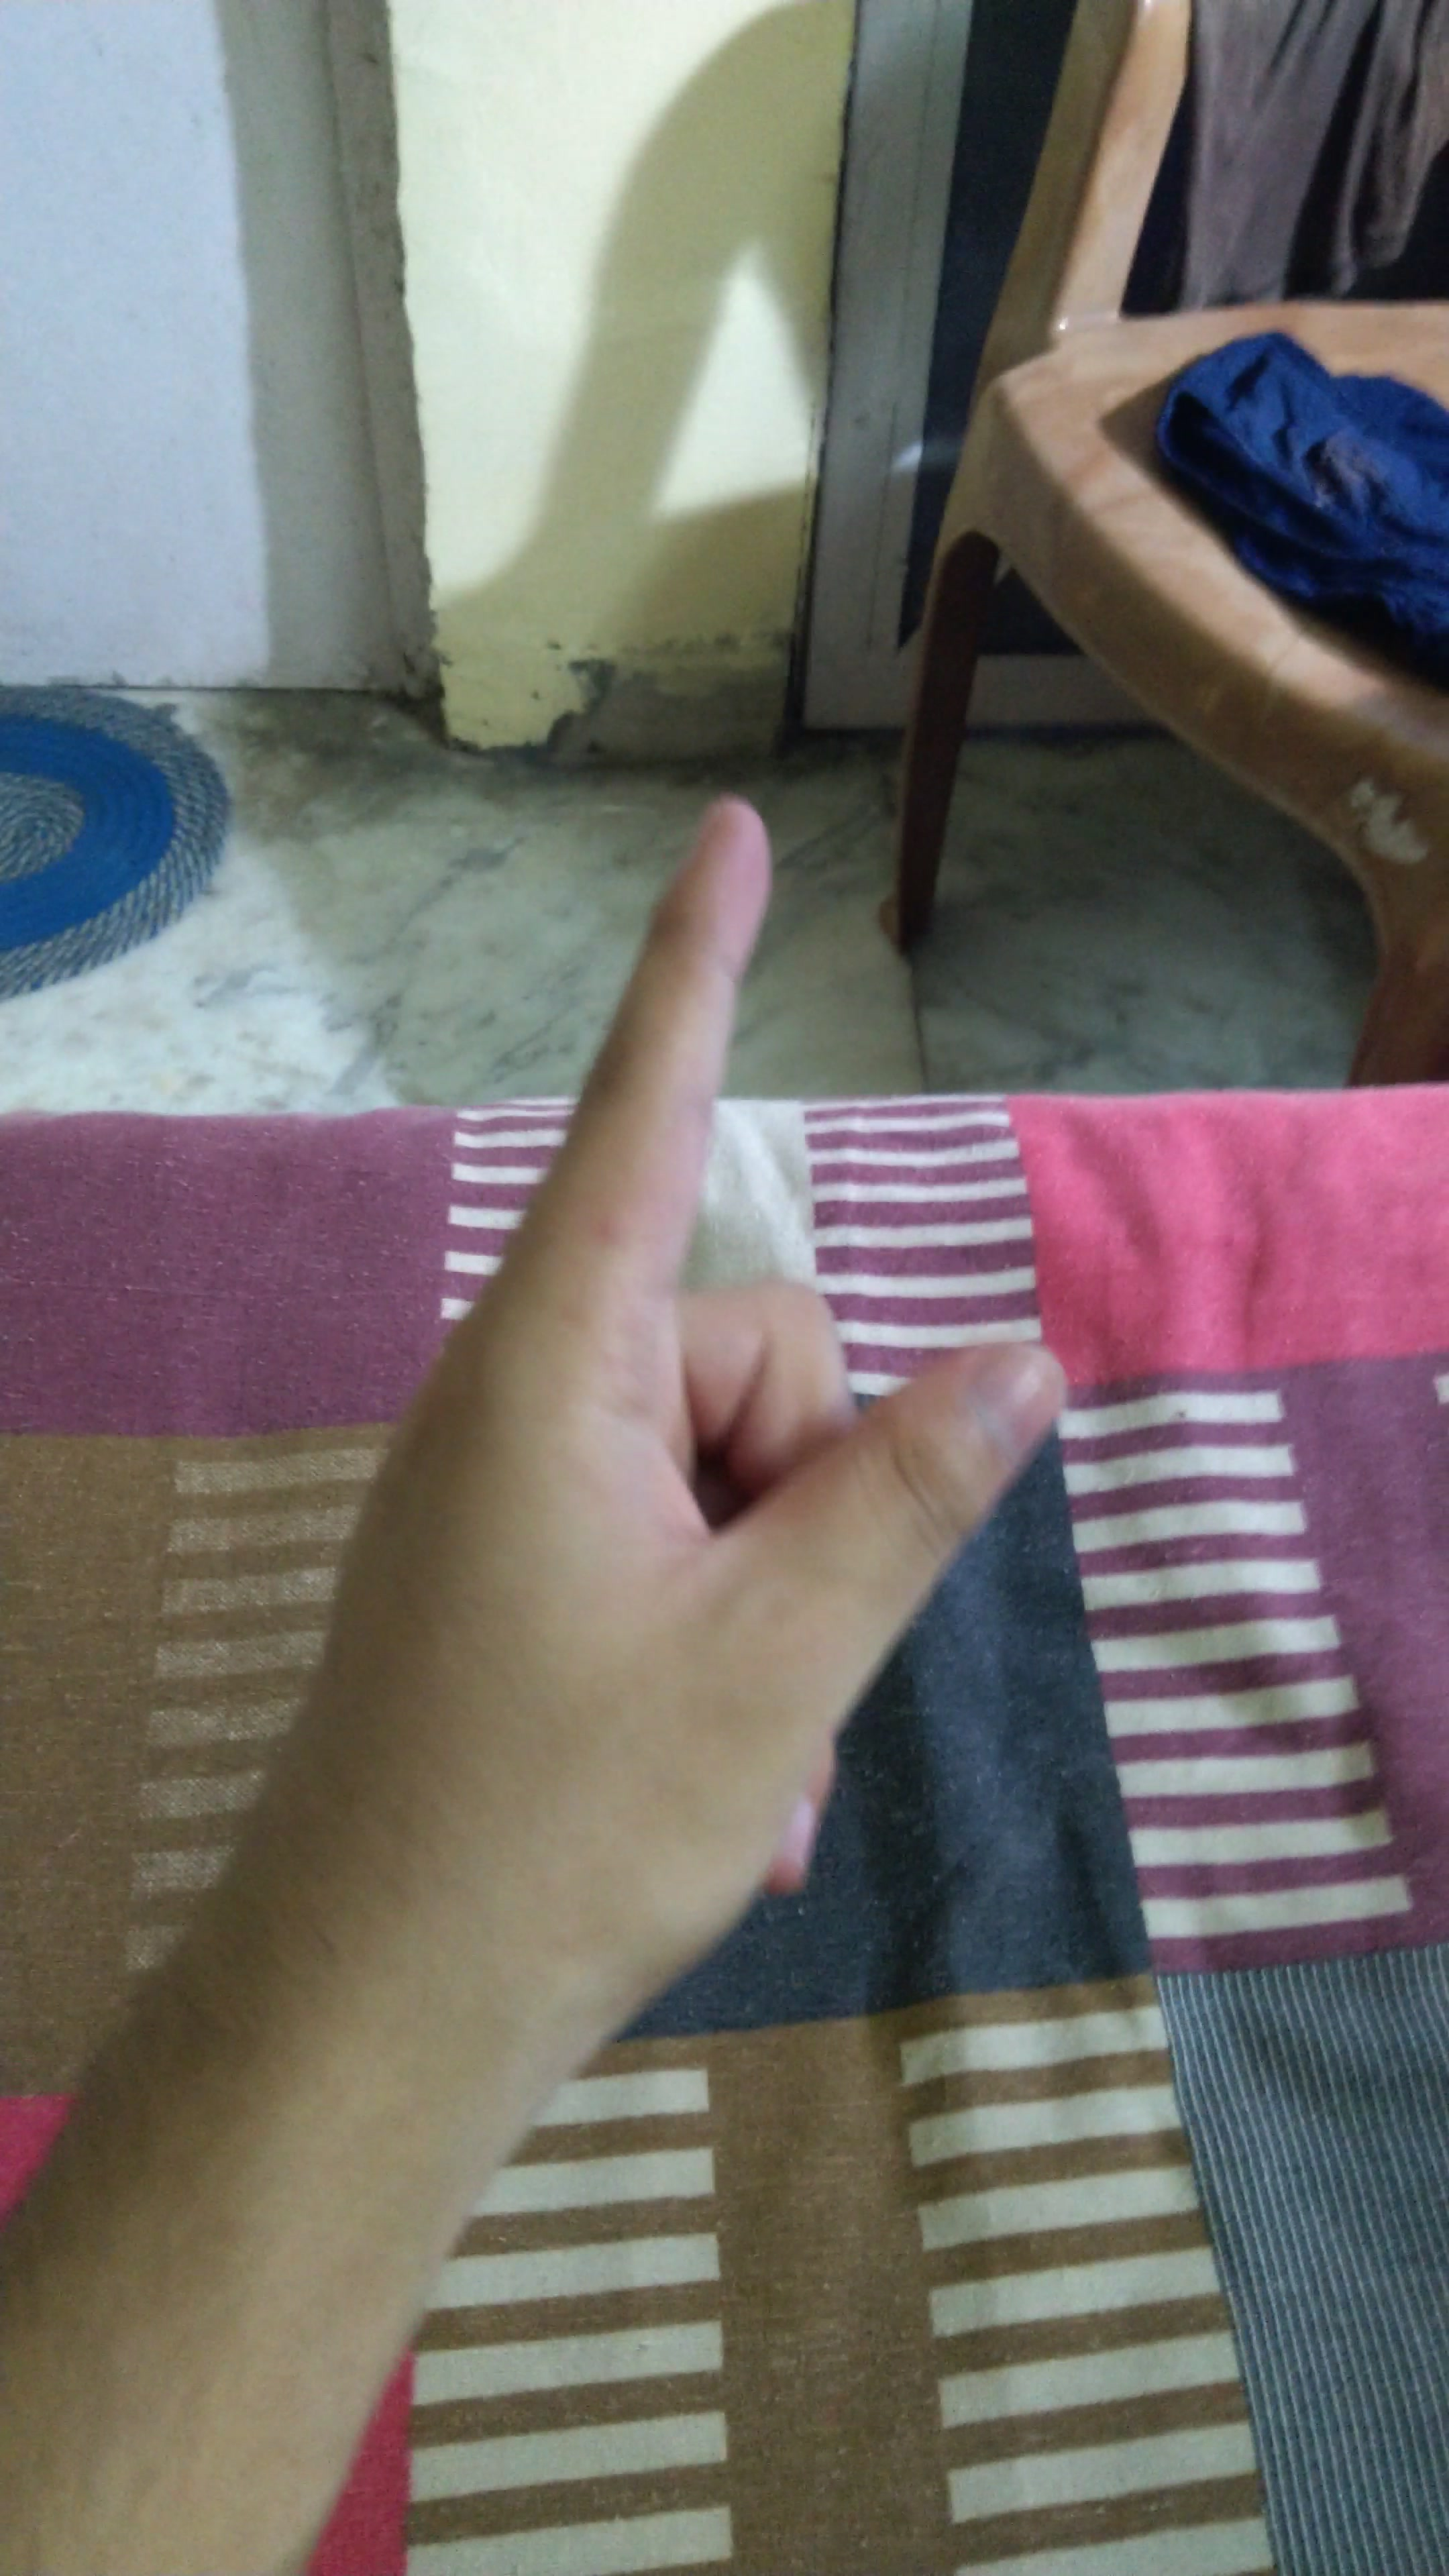hand: (253, 763, 1092, 2089)
